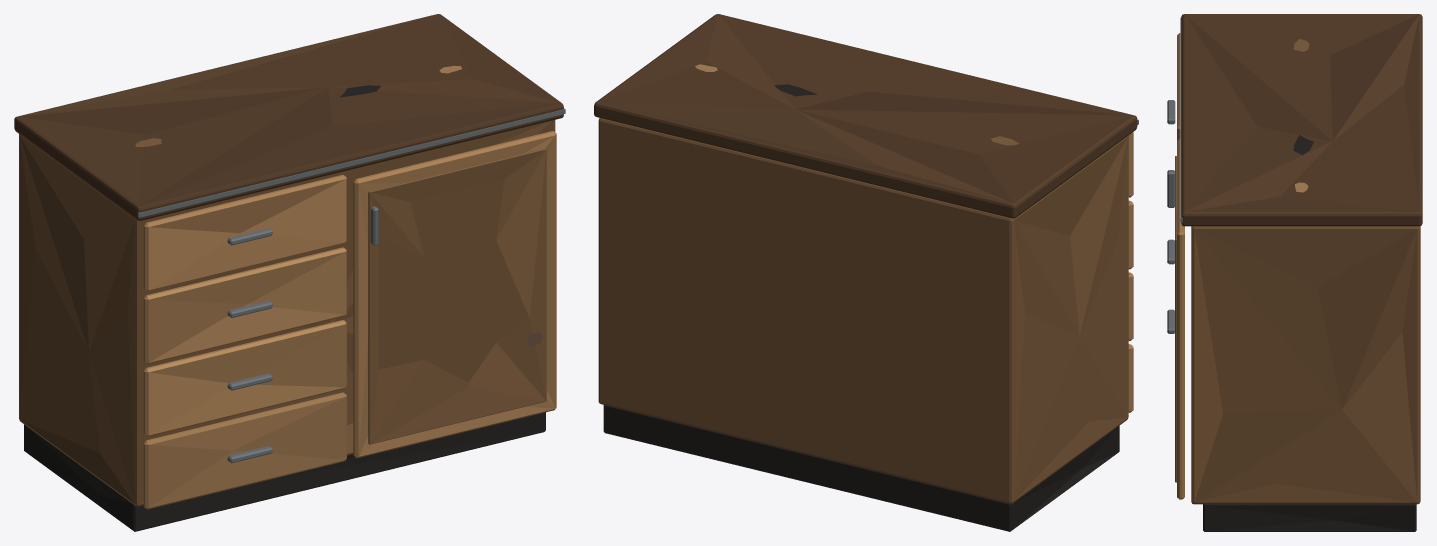
File: kitchen_counter_s_yaschikami_idle.glb
3 renders of one model, left to right at view 1: azimuth 30°, elevation 25°; view 2: azimuth 150°, elevation 25°; view 3: azimuth 270°, elevation 25°, orthographic. The views are drawn at different scales.
Parts seen in each view (by area): view 1: kitchen_counter_s_yaschikami_idle; view 2: kitchen_counter_s_yaschikami_idle; view 3: kitchen_counter_s_yaschikami_idle.
Boxes of the visible parts, x1,y1,x2,y2 form: kitchen_counter_s_yaschikami_idle: (14,14,565,531); kitchen_counter_s_yaschikami_idle: (594,14,1138,531); kitchen_counter_s_yaschikami_idle: (1167,14,1422,531).
Size of the model in its own units: 1.2 by 0.904 by 0.645.
Materials: 1 (1 with a texture image).
